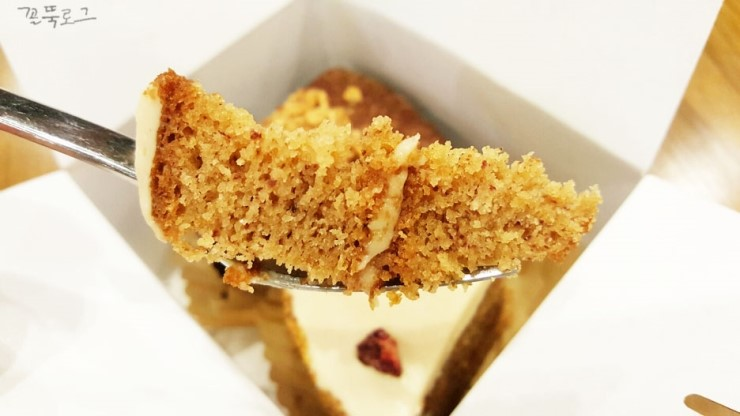slice of bread: (119, 70, 623, 277)
